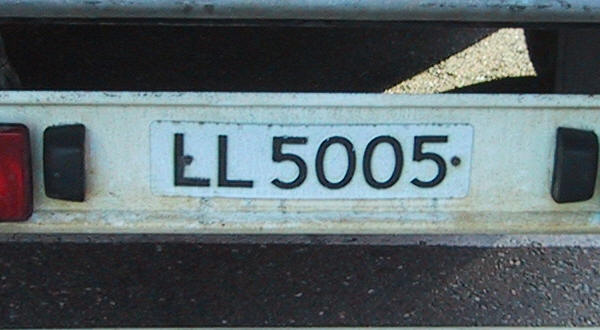license_plate: (150, 120, 473, 201)
